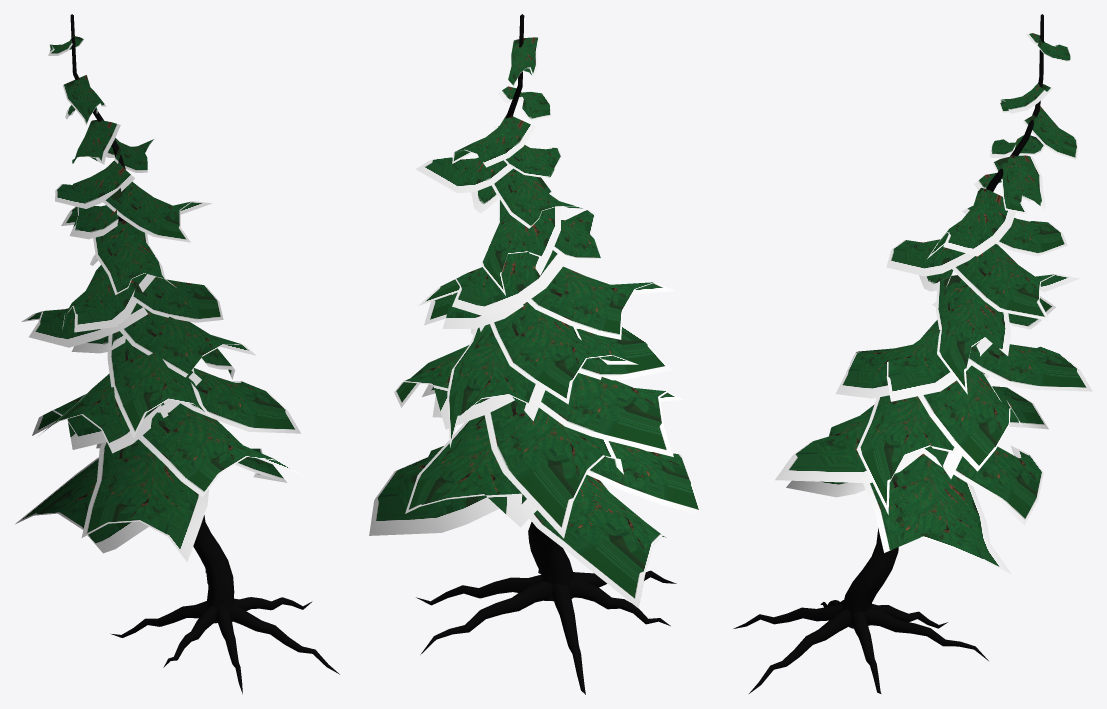
File: Pine_3_LOD0.fbx
The picture shows the model from 3 angles, left to right: view 1: azimuth 30°, elevation 25°; view 2: azimuth 150°, elevation 25°; view 3: azimuth 270°, elevation 25°; orthographic projection. The views are drawn at different scales.
Visible parts, largest first — view 1: Pine_3; view 2: Pine_3; view 3: Pine_3.
Boxes of the visible parts, <box> form: Pine_3: <box>15,14,339,694</box>; Pine_3: <box>369,14,703,694</box>; Pine_3: <box>733,14,1092,693</box>.
Size of the model in its own units: 131 by 303 by 161.
